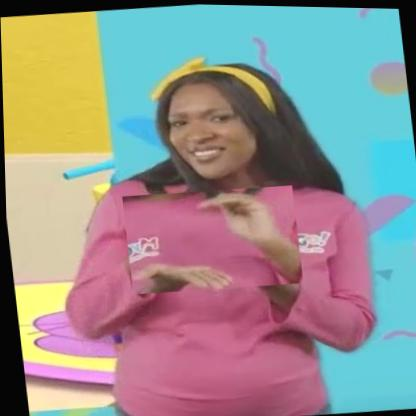ExcuseMe: (121, 181, 302, 297)
